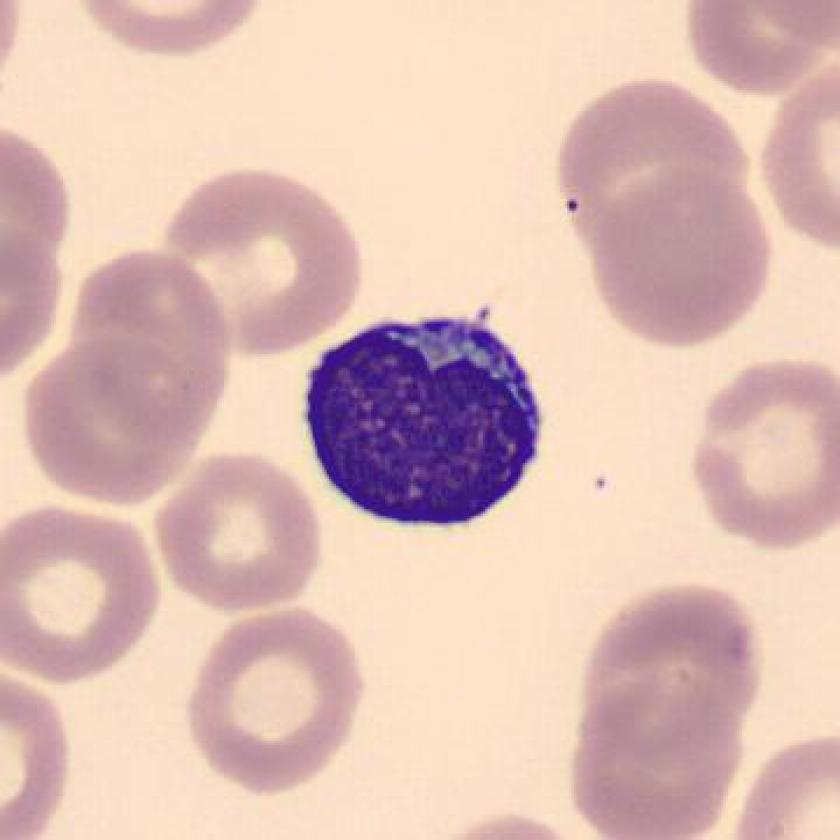lymphocyte: (295, 299, 556, 545)
